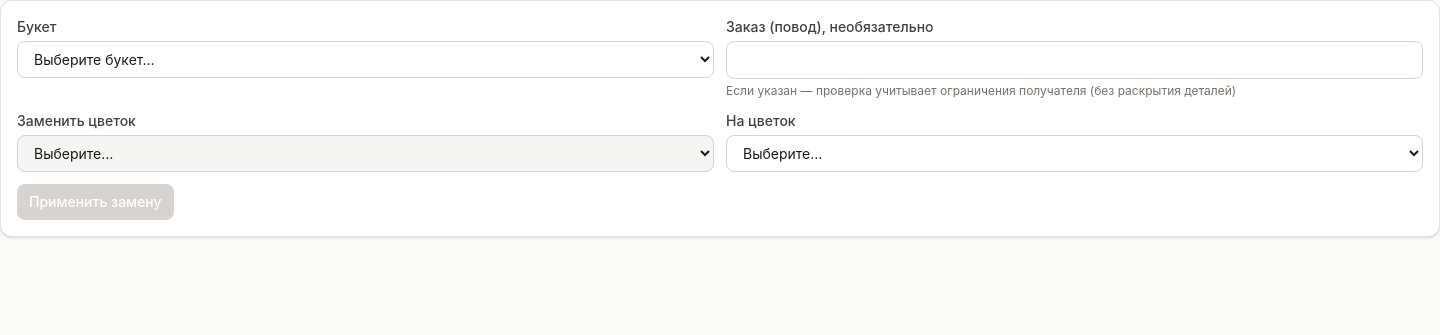
Test: AC-3 (UI): опасная замена — кнопка неактивна и показана причина; безопасная — активна
Select "AB-001 — Розы" in the dropdown labelled "Букет": x=366, y=60 [17, 41, 714, 78]
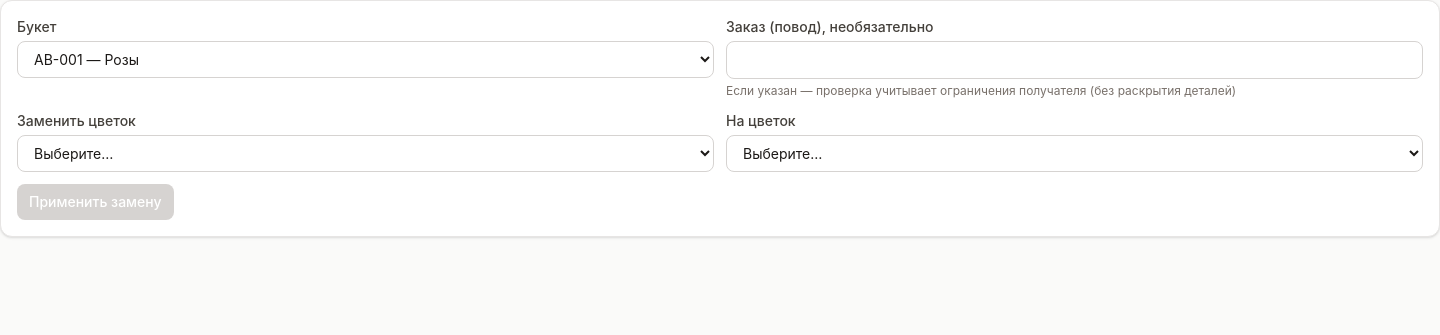
Select "Роза × 9" in the dropdown labelled "Заменить цветок": x=366, y=154 [17, 135, 714, 172]
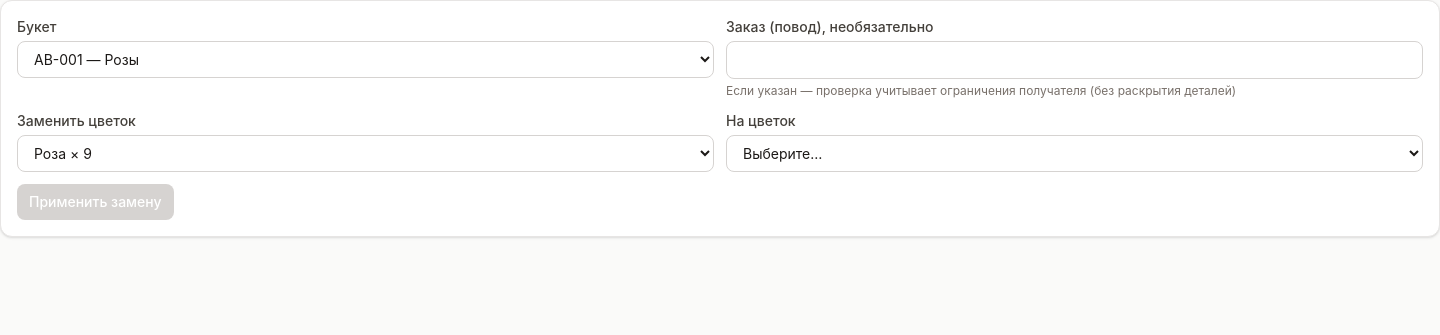
Select "Лилия" in the dropdown labelled "На цветок": x=1074, y=154 [726, 135, 1423, 172]
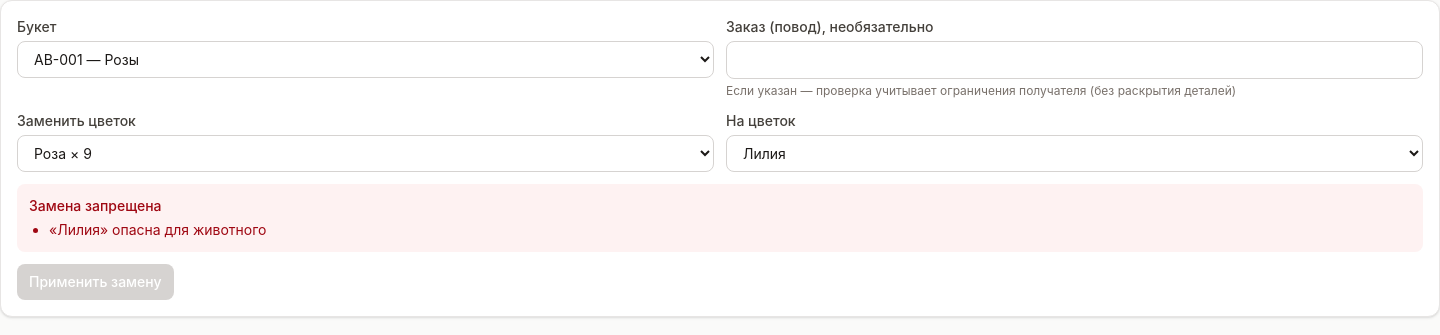
Check: the button "Применить замену" is disabled, box [17, 264, 174, 300]
Check: the text "Замена запрещена" is shown, box [29, 197, 162, 214]
Check: the list item "«Лилия» опасна для животного" is shown, box [49, 221, 266, 238]
Select "Гербера" in the dropdown labelled "На цветок": x=1074, y=154 [726, 135, 1423, 172]
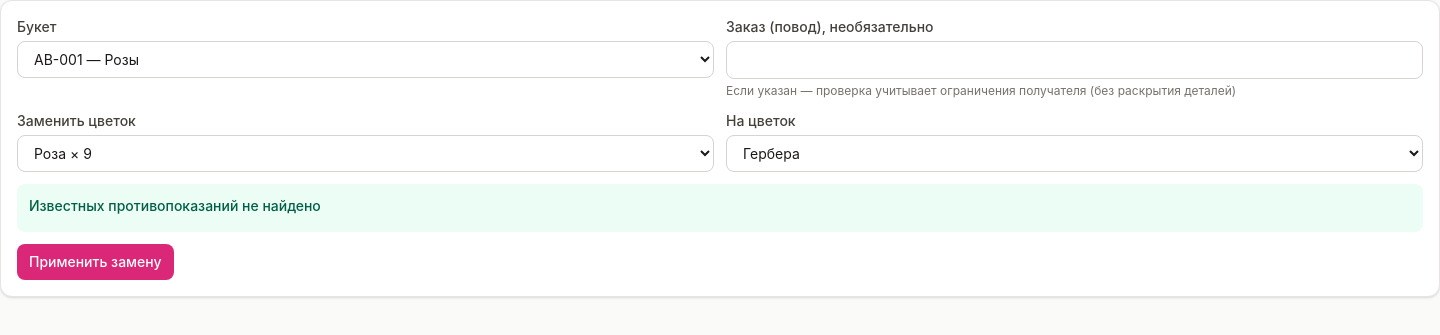
Check: the button "Применить замену" is enabled, box [17, 244, 174, 280]
Check: the text "Известных противопоказаний не найдено" is shown, box [29, 197, 321, 214]
